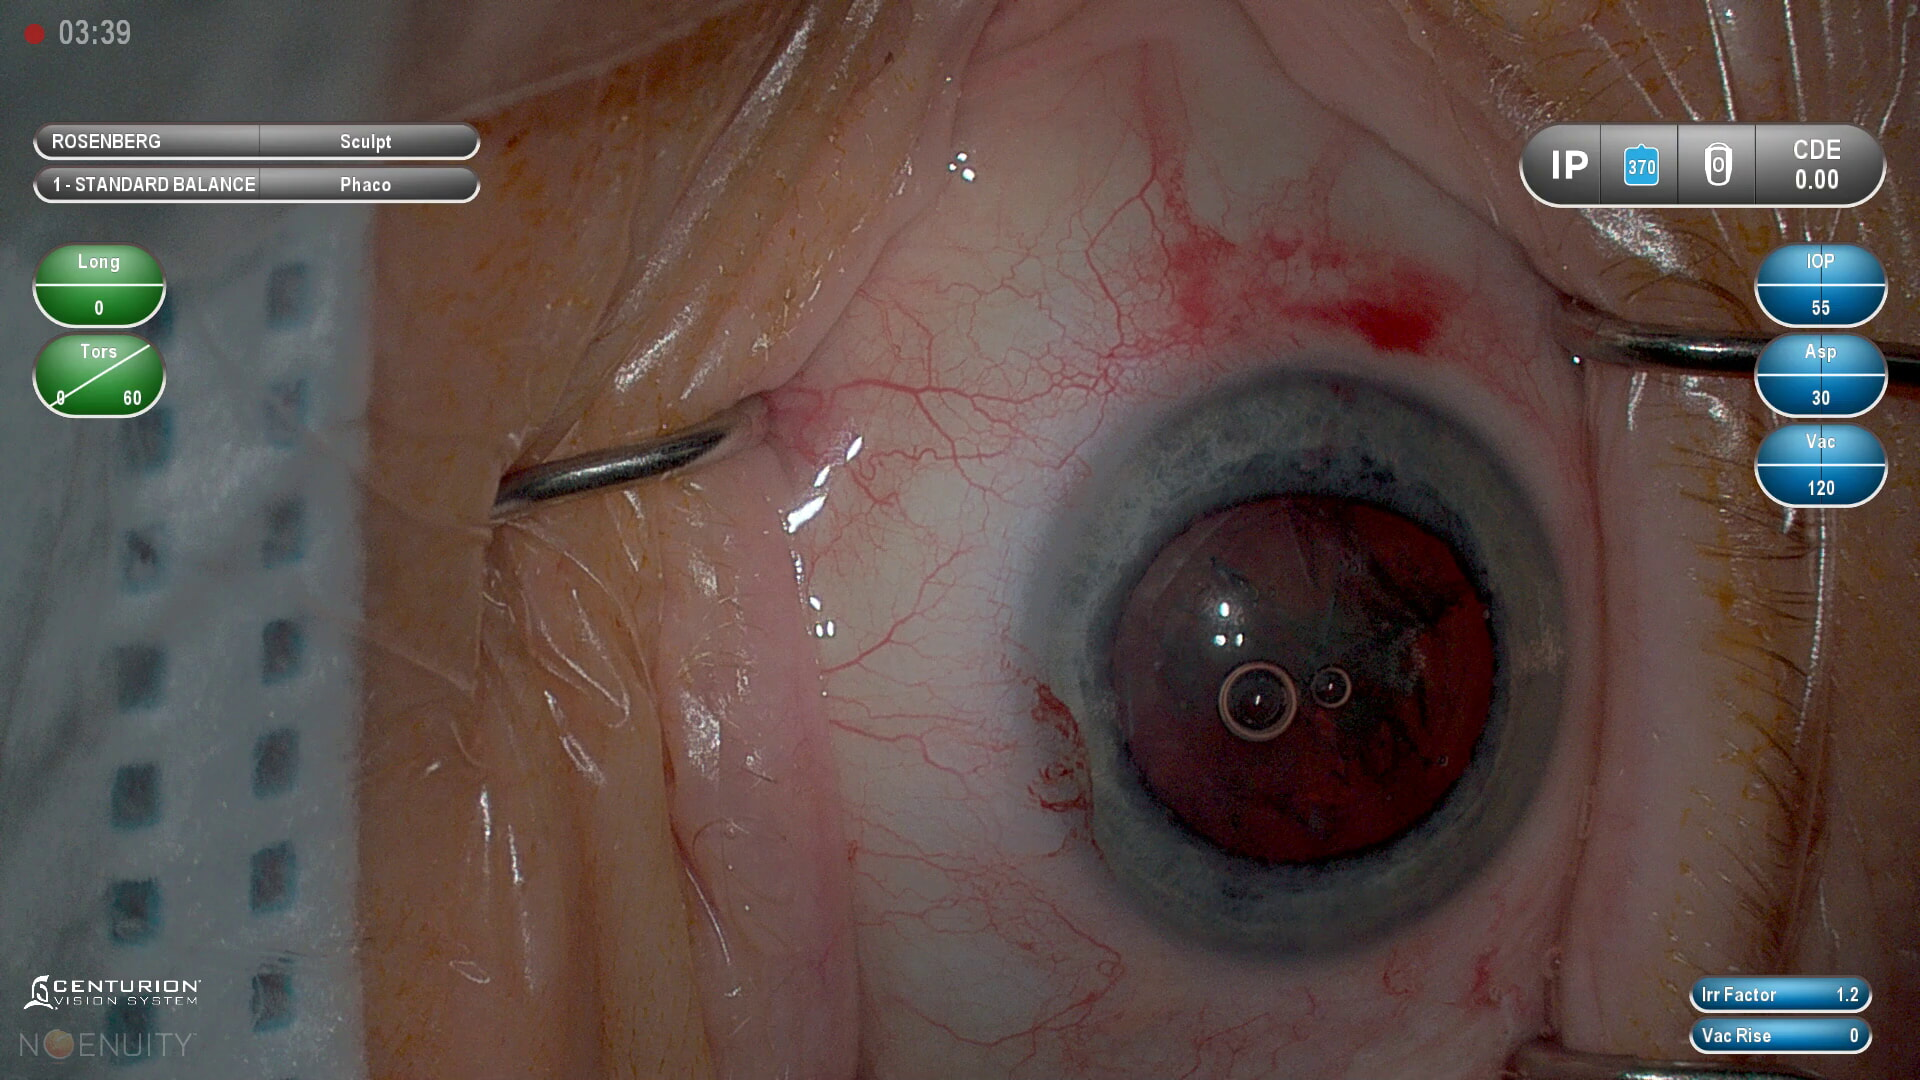iris: (1033, 372, 1571, 958)
pupil: (1101, 492, 1510, 872)
